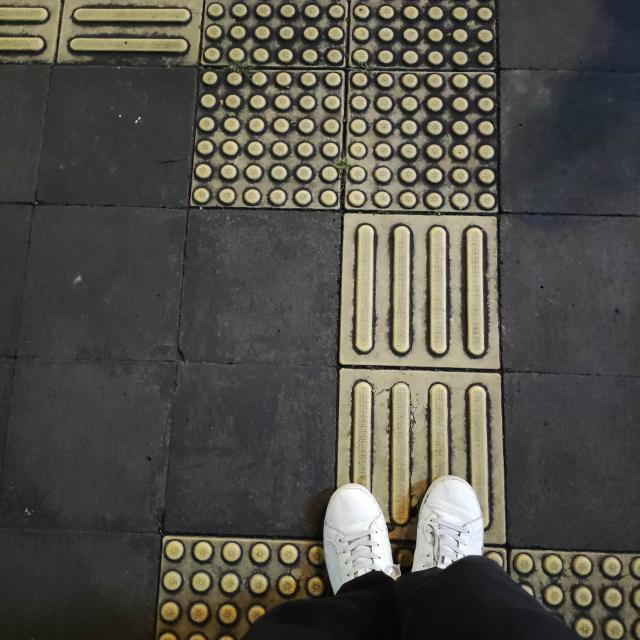kiri: (13, 0, 518, 287)
